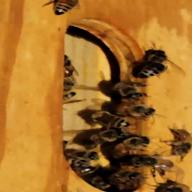Bee: (108, 138, 161, 162), (109, 76, 151, 106), (45, 0, 80, 20)
